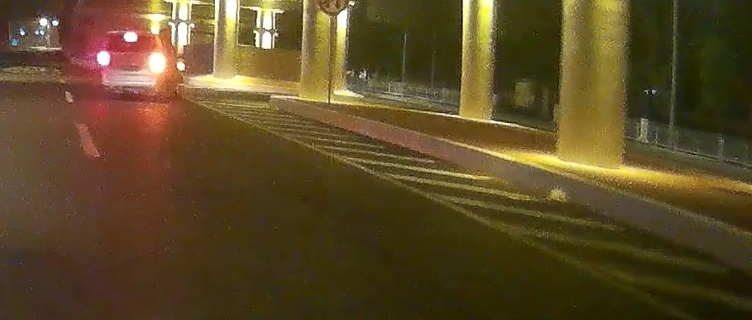L_light: (98, 51, 109, 66)
R_light: (151, 54, 164, 68)
T_light: (123, 32, 137, 42)
night-right: (97, 30, 166, 99)
